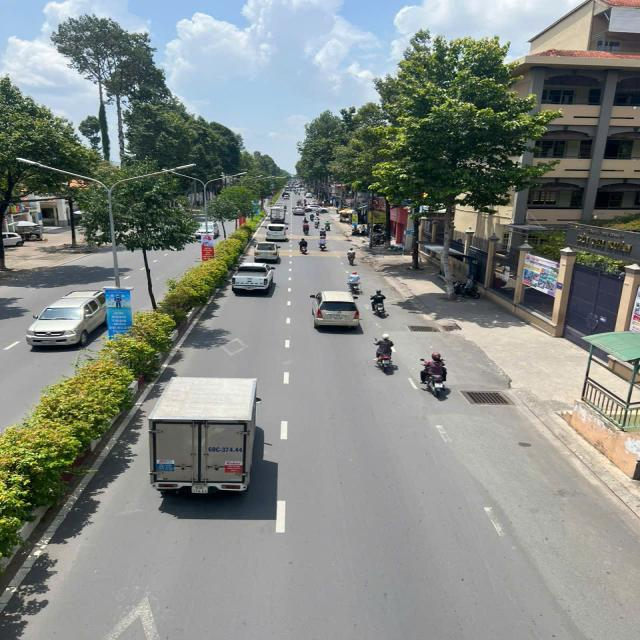ben: (143, 370, 267, 504), (266, 202, 290, 225)
car: (23, 281, 110, 350), (308, 288, 362, 333), (226, 258, 278, 294), (249, 237, 282, 263), (194, 215, 222, 243), (260, 220, 292, 243)
motobyte: (418, 348, 457, 402), (370, 330, 402, 376), (368, 286, 395, 320), (343, 268, 367, 299), (296, 233, 313, 258), (316, 226, 331, 252), (346, 245, 362, 269)
